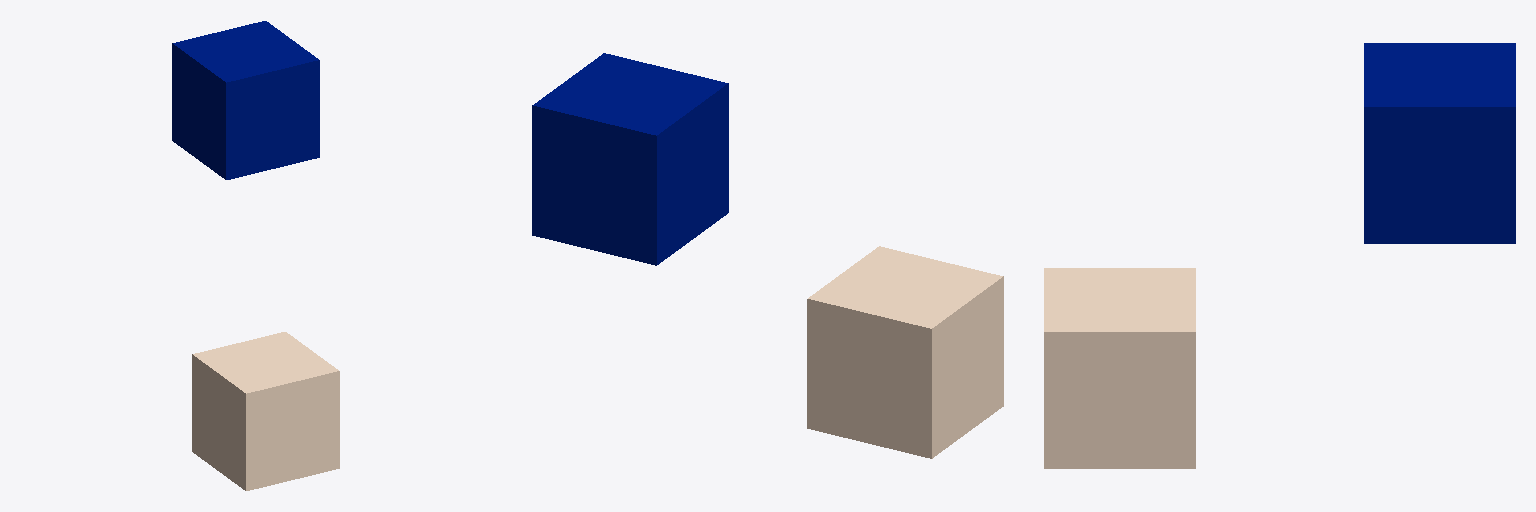
URDF robot description (cube):
<?xml version="1.0"?>
<robot name="cube">
<material name="blue">
<color rgba="0.006 0.151 0.581 1"/>
</material>
<material name="white">
<color rgba="1.0 0.91 0.827 1"/>
</material>

<link name="map"></link>

<link name="base_link">
<visual>
<geometry>
<box size="0.1 0.1 0.1"/>
</geometry>
<material name="white"/>
</visual>
</link>

<joint name="map_joint" type="fixed">
<origin xyz="0 0 0.05" rpy="0 0 0"/>
<parent link="map"/>
<child link="base_link"/>
</joint>

<link name="head_link">
<visual>
<origin rpy="0 0 0" xyz="0.1 0.1 0.1" />
<geometry>
<box size="0.1 0.1 0.1"/>
</geometry>
<material name="blue"/>
</visual>
</link>

<joint name="base_link_to_head_link_joint" type="revolute">
<origin xyz="0 0.11 0.11" rpy="0 0 0"/>
<parent link="base_link"/>
<child link="head_link"/>
<axis xyz="0 0 1"/>
<limit effort="100" velocity="1.0" lower="-1.57" upper="1.57"/>
</joint>

</robot>

--- Facts derived from the render (not from the file) ---
The picture shows the robot from 3 angles, left to right: view 1: azimuth 30°, elevation 25°; view 2: azimuth 150°, elevation 25°; view 3: azimuth 270°, elevation 25°; orthographic projection.
Model cube with 3 links and 2 joints (1 revolute, 1 fixed), rooted at map, posed all joints at 0.
Visible links, largest first — view 1: base_link, head_link; view 2: base_link, head_link; view 3: base_link, head_link.
Boxes of the visible links, left/top/right/bottom form: base_link: left=192, top=332, right=339, bottom=490; head_link: left=172, top=21, right=319, bottom=179; base_link: left=807, top=246, right=1003, bottom=458; head_link: left=532, top=53, right=728, bottom=265; base_link: left=1044, top=268, right=1195, bottom=468; head_link: left=1364, top=43, right=1515, bottom=243.
Size in the robot's own frame: 0.2 by 0.31 by 0.31 metres.
Geometry: primitives only (box / cylinder / sphere), no mesh files.